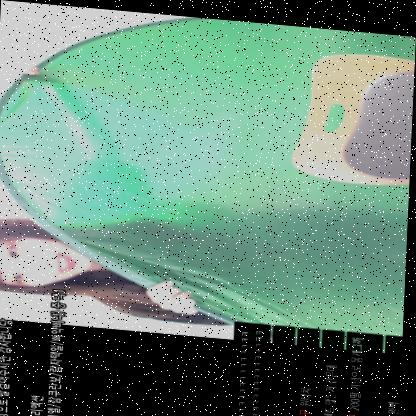streamer: (0, 62, 414, 336)
